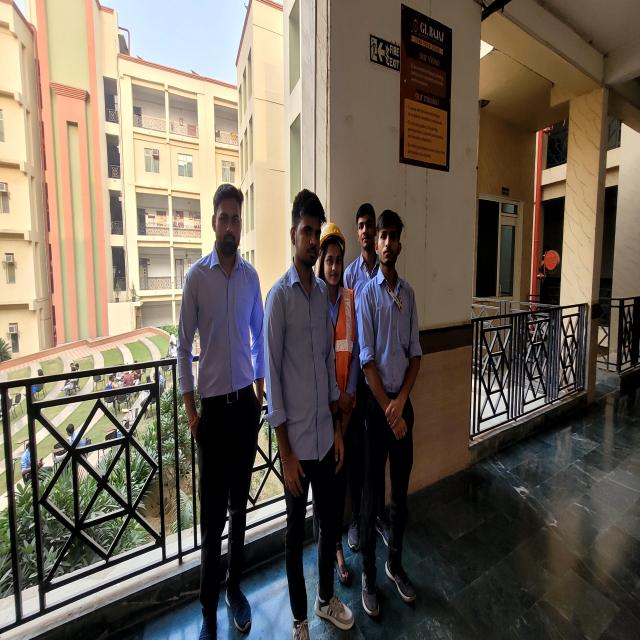safe: (312, 218, 360, 582)
unsafe: (180, 180, 267, 640), (266, 187, 352, 640), (360, 212, 421, 616), (347, 200, 380, 553)
